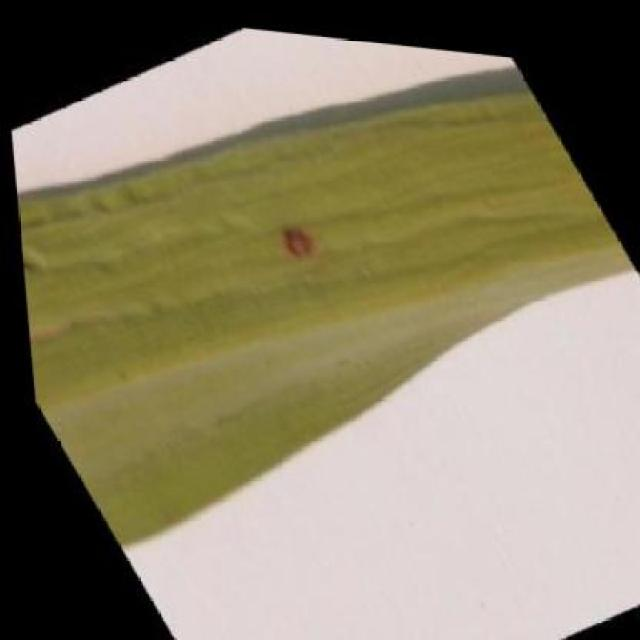Brown_Spot: (18, 266, 97, 402)
Leaf_Blast: (247, 193, 342, 309)
